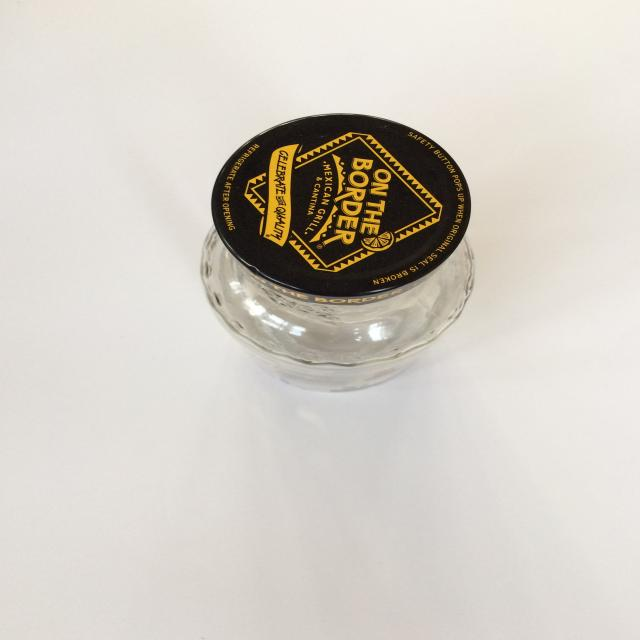glass: (198, 112, 476, 392)
